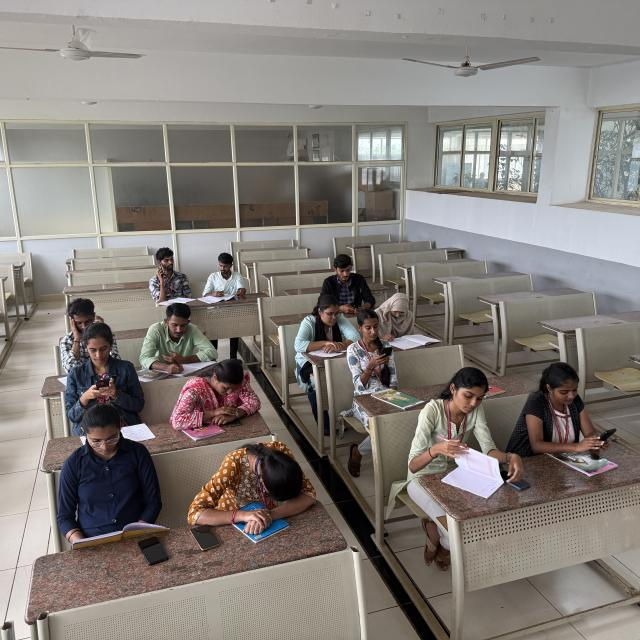Reading: (49, 411, 186, 544), (413, 365, 535, 498), (288, 298, 361, 364), (200, 249, 256, 306)
Sleeping: (191, 436, 326, 527)
Using Phone: (522, 360, 623, 459), (56, 335, 159, 414), (340, 311, 412, 397), (310, 248, 383, 314), (147, 251, 190, 297)
Writing: (142, 308, 215, 382), (374, 294, 456, 353)
